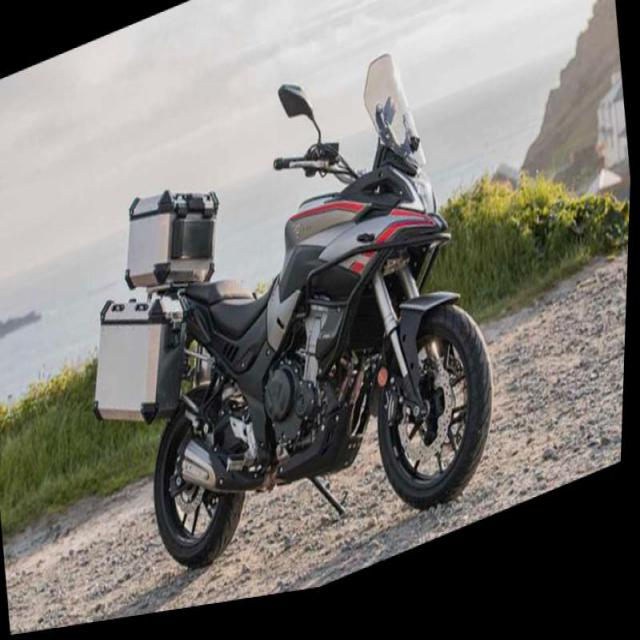CB500X: (111, 21, 516, 624)
